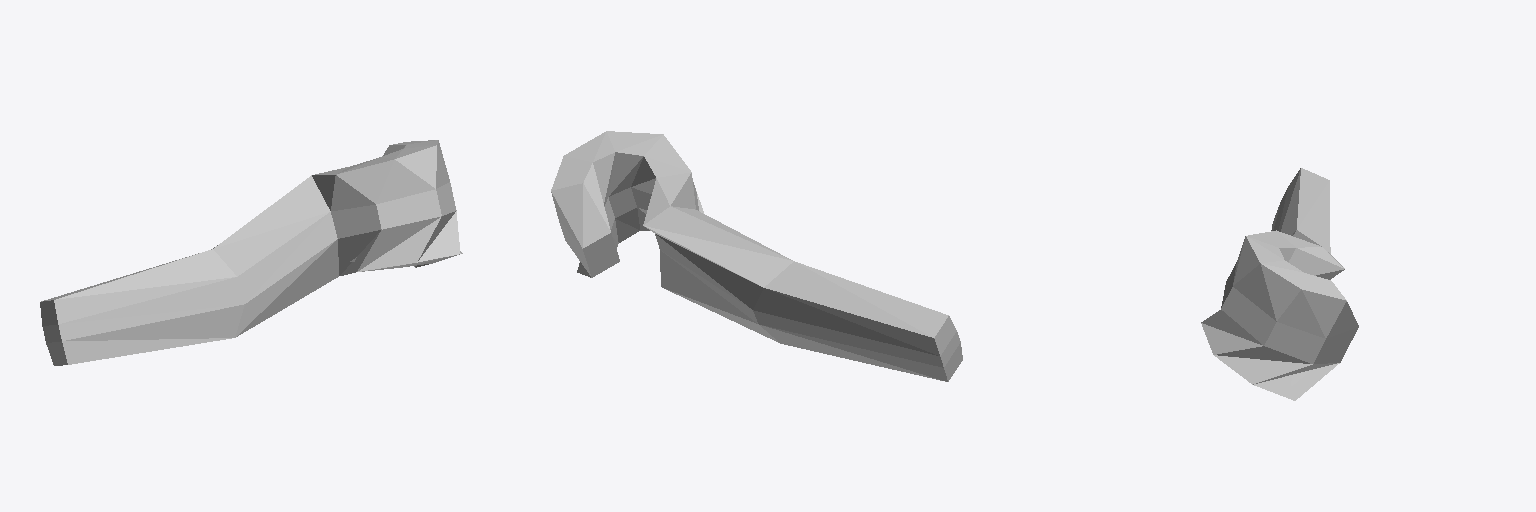
Rendered from SwordArm.obj.
3 views of the same model, side by side, from view 1: azimuth 30°, elevation 25°; view 2: azimuth 150°, elevation 25°; view 3: azimuth 270°, elevation 25° (orthographic).
Visible parts, largest first — view 1: SwordArm; view 2: SwordArm; view 3: SwordArm.
Boxes of the visible parts, box(x1,y1,x2,y2) form: SwordArm: box(40, 140, 462, 365); SwordArm: box(551, 131, 962, 381); SwordArm: box(1201, 168, 1358, 400).
Size of the model in its own units: 23.49 by 9.22 by 8.32.